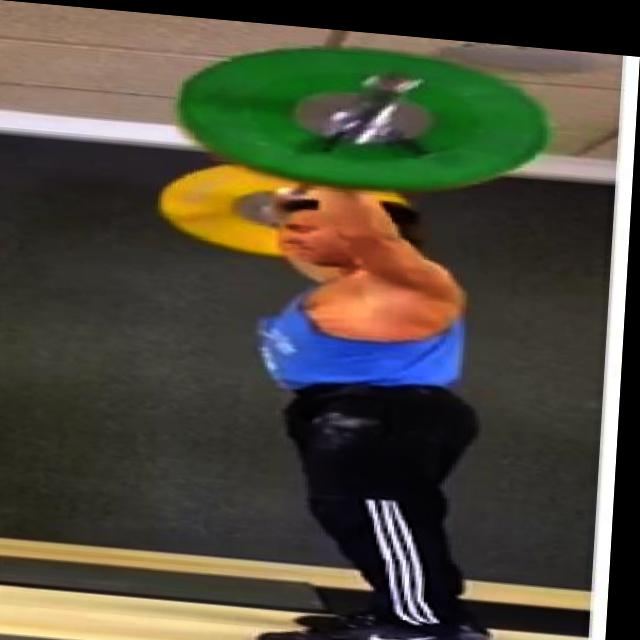barbell: (168, 31, 562, 203)
